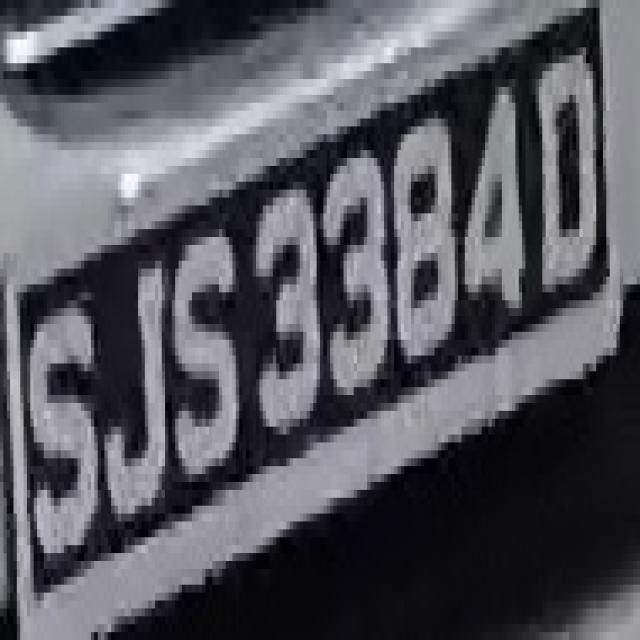3: (317, 150, 394, 427), (246, 182, 323, 450)
4: (462, 47, 532, 340)
8: (380, 111, 464, 379)
D: (532, 32, 606, 308)
J: (105, 253, 175, 529)
S: (24, 276, 104, 576), (172, 214, 242, 514)
